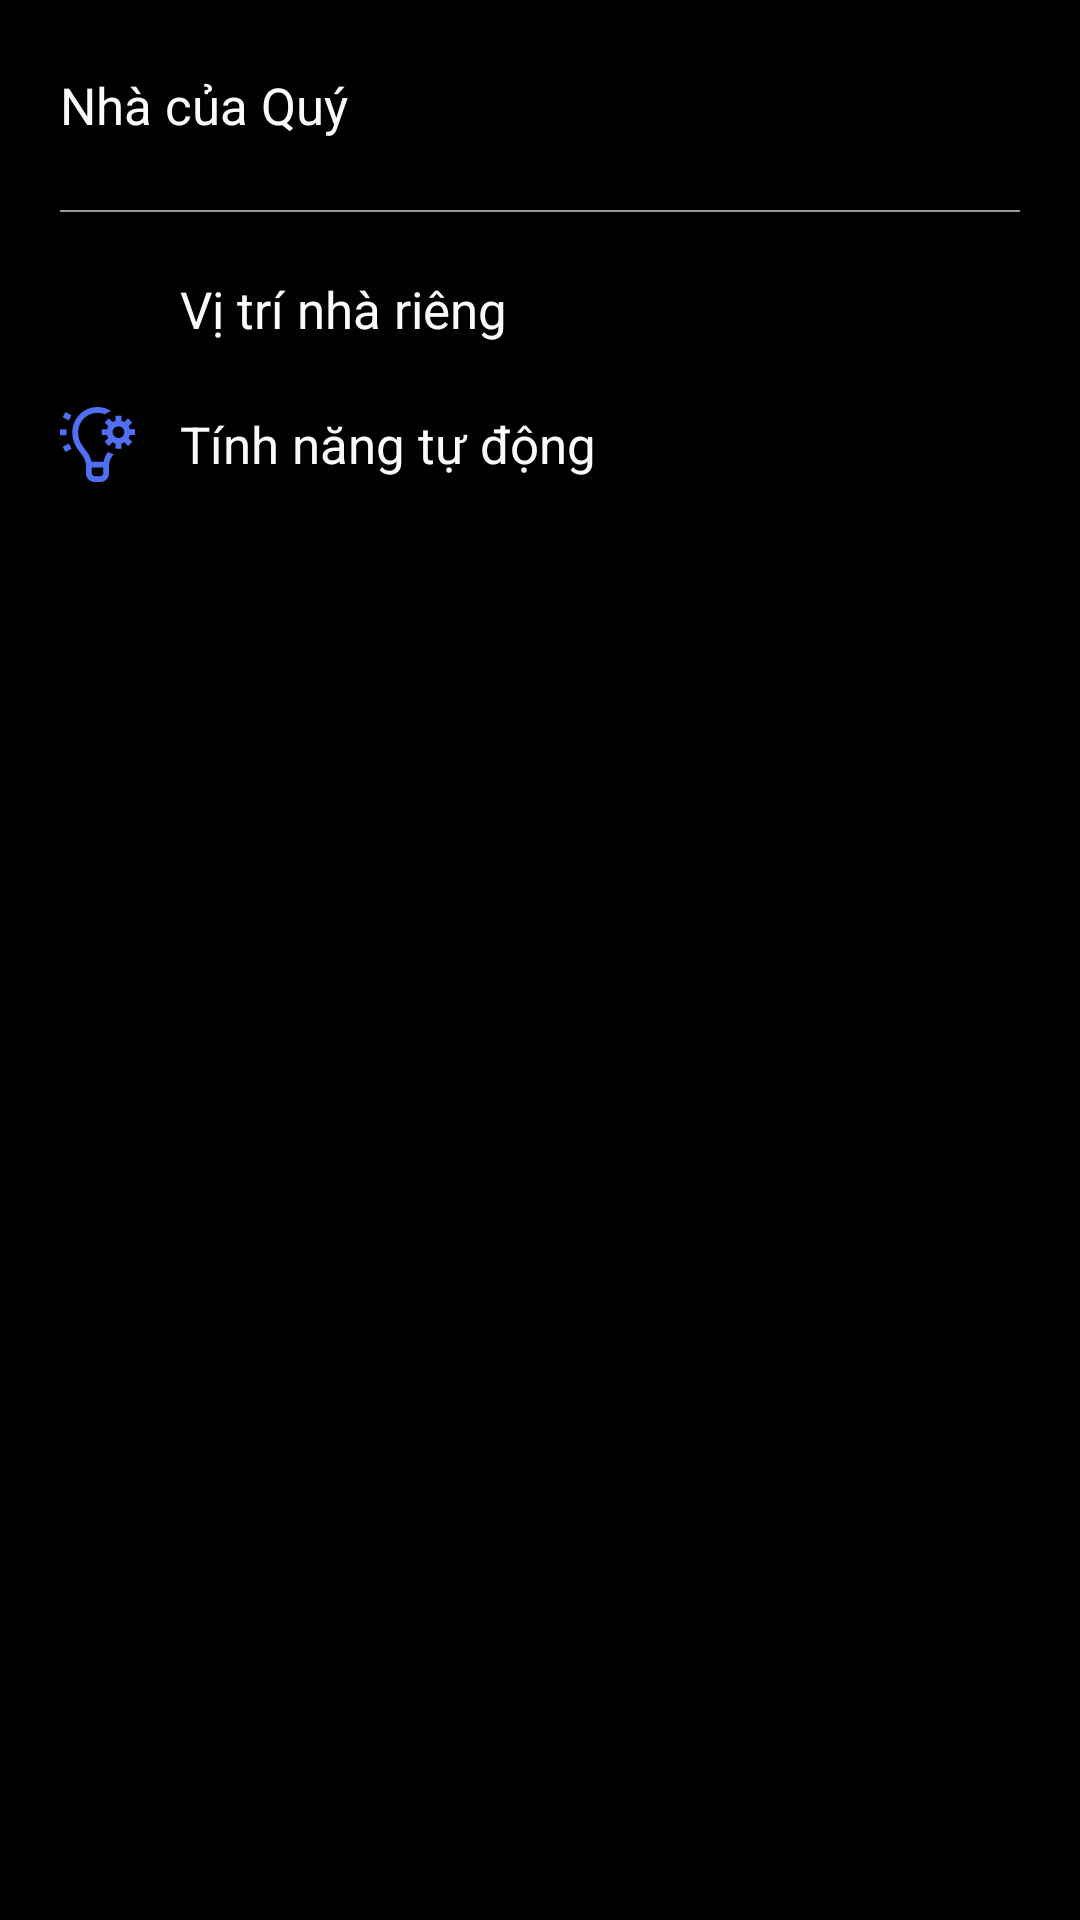

Named icons in this screenshot (1080x1920) and their bounding boxes, [x1, y1, x2, y2]:
automation: [60, 407, 135, 482]
